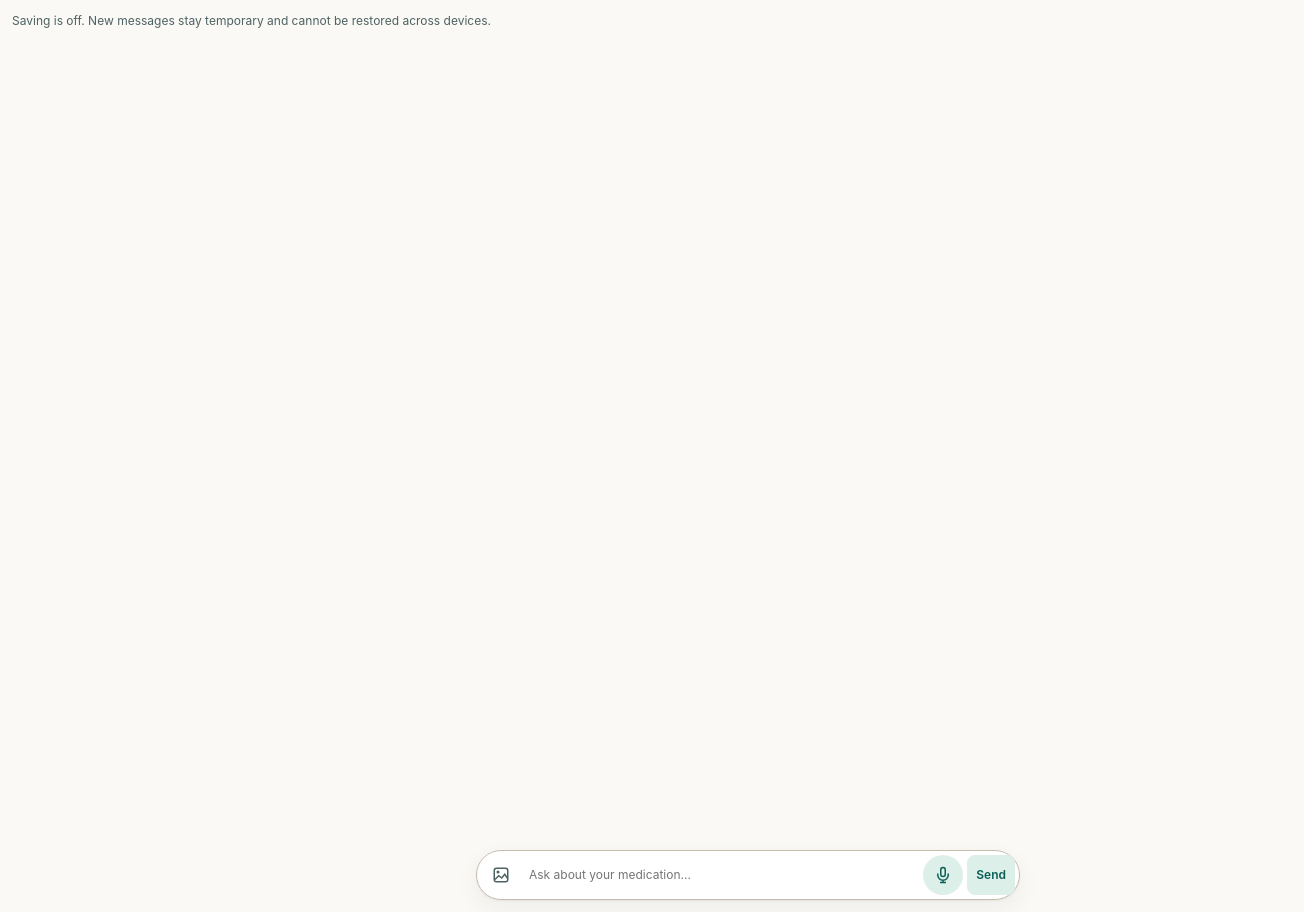
Test: continues enrollment in the existing Assistant surface without legacy resending
Type "Add a medication" into the field at (722, 875), box [525,855,919,895]
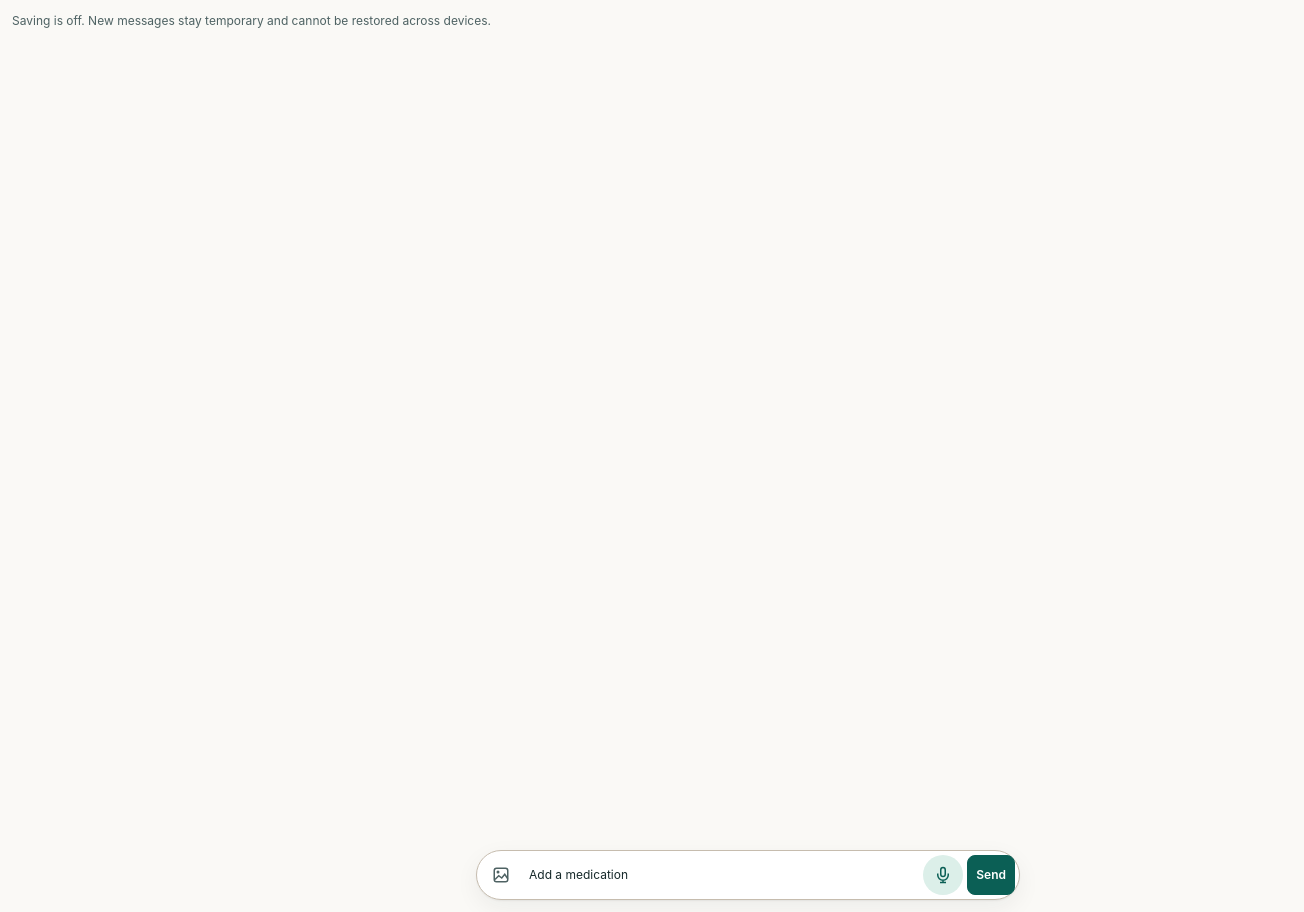
Click the button "Send" at (991, 875), box [967,855,1015,895]
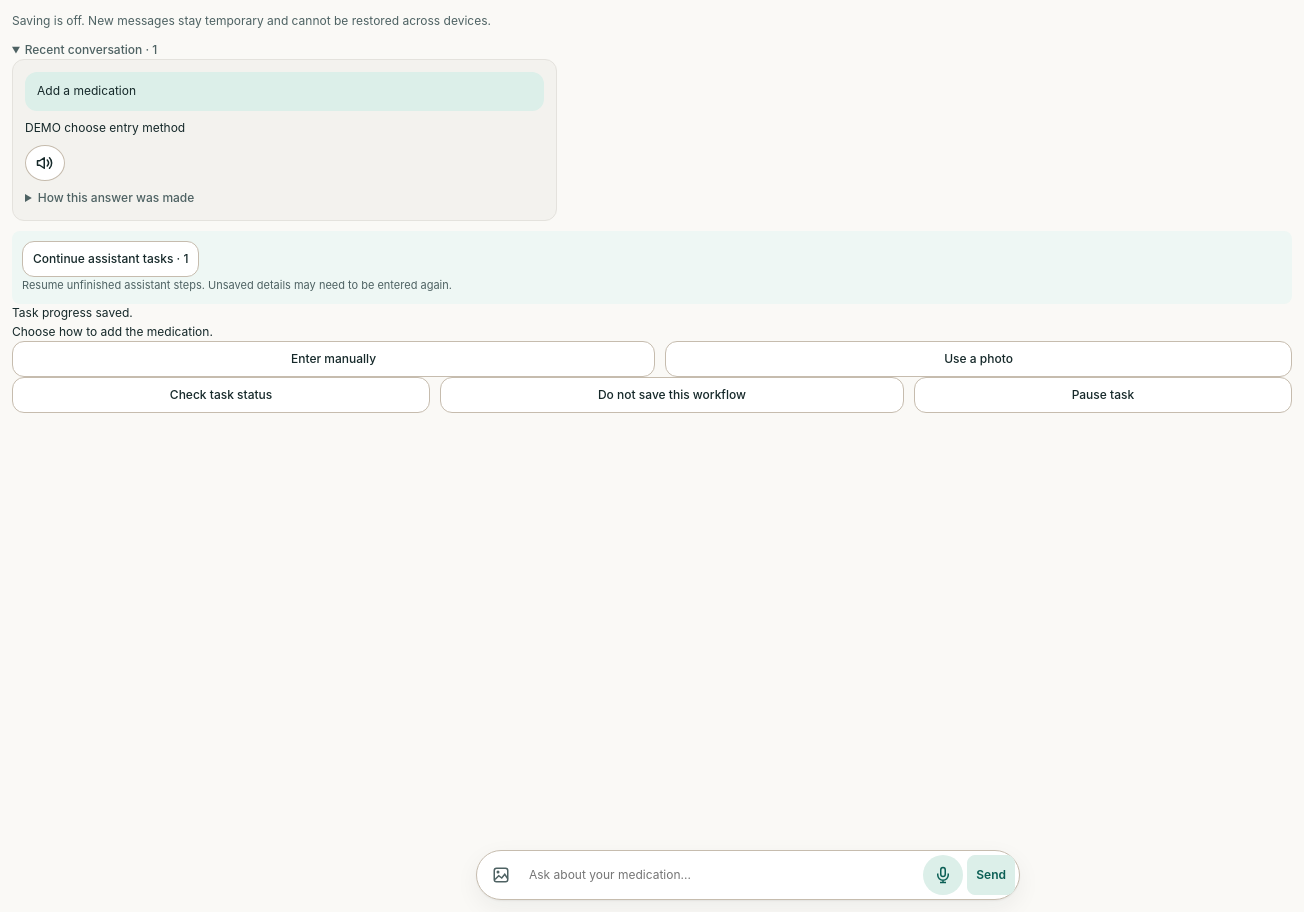
Check: the button "Enter manually" is shown
Click the button "Enter manually" at (334, 359), box [12,341,655,377]
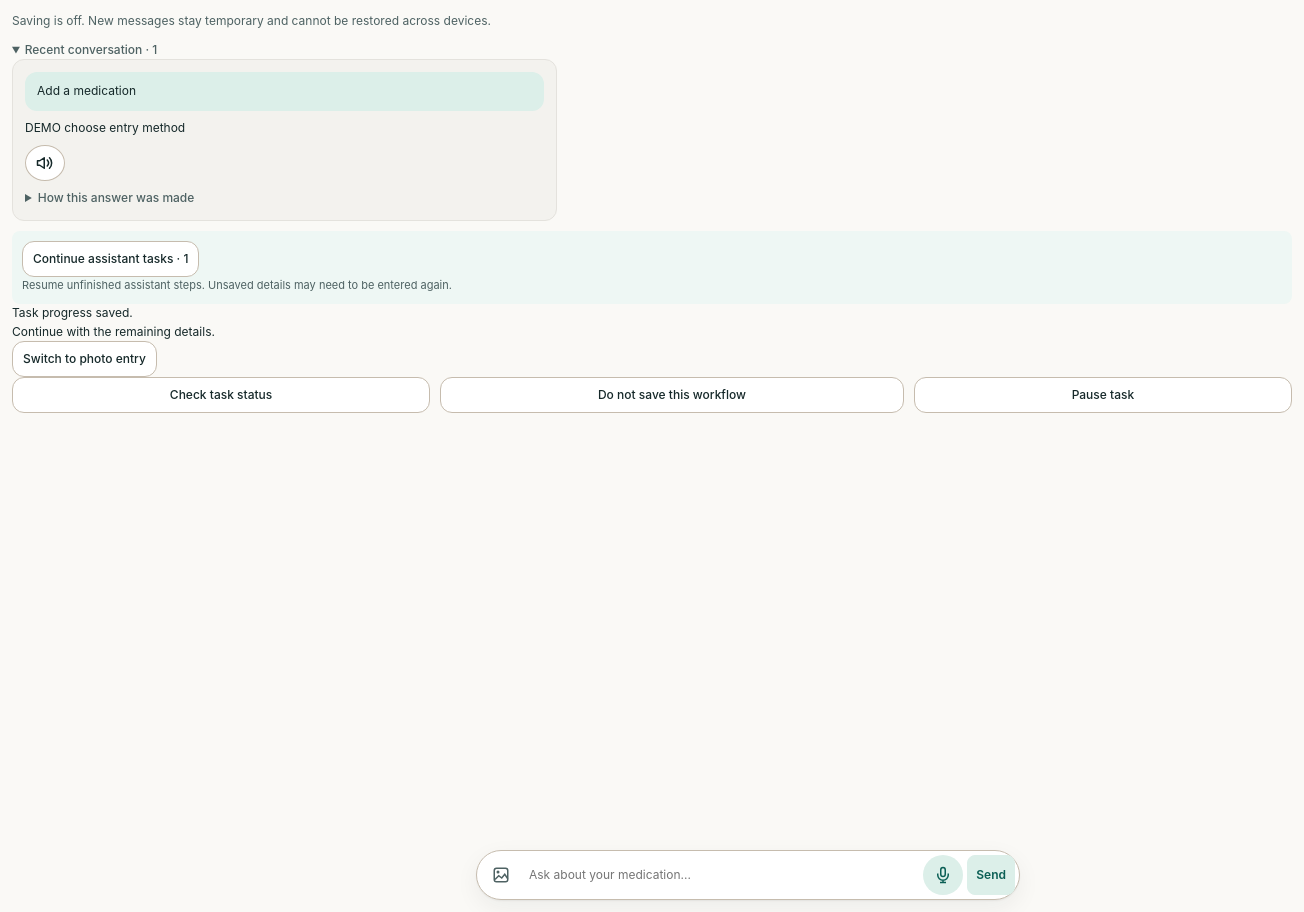
Check: the text "Continue with the remaining details." is shown, box [12,324,215,339]
